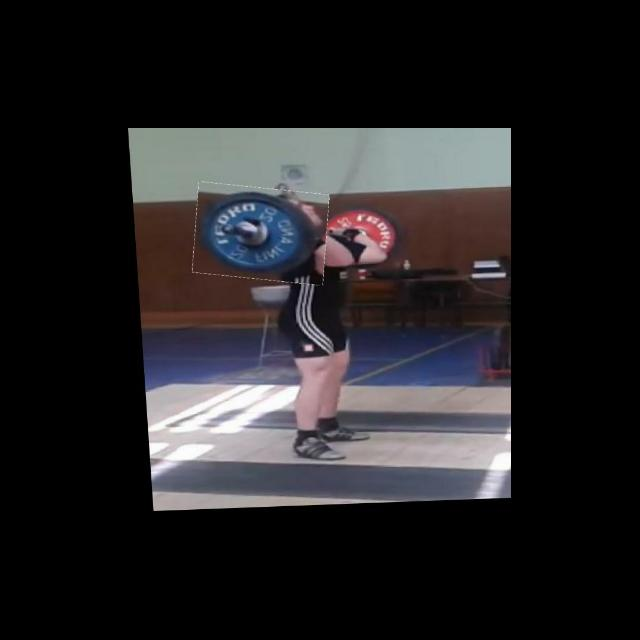barbell: (189, 183, 329, 286)
